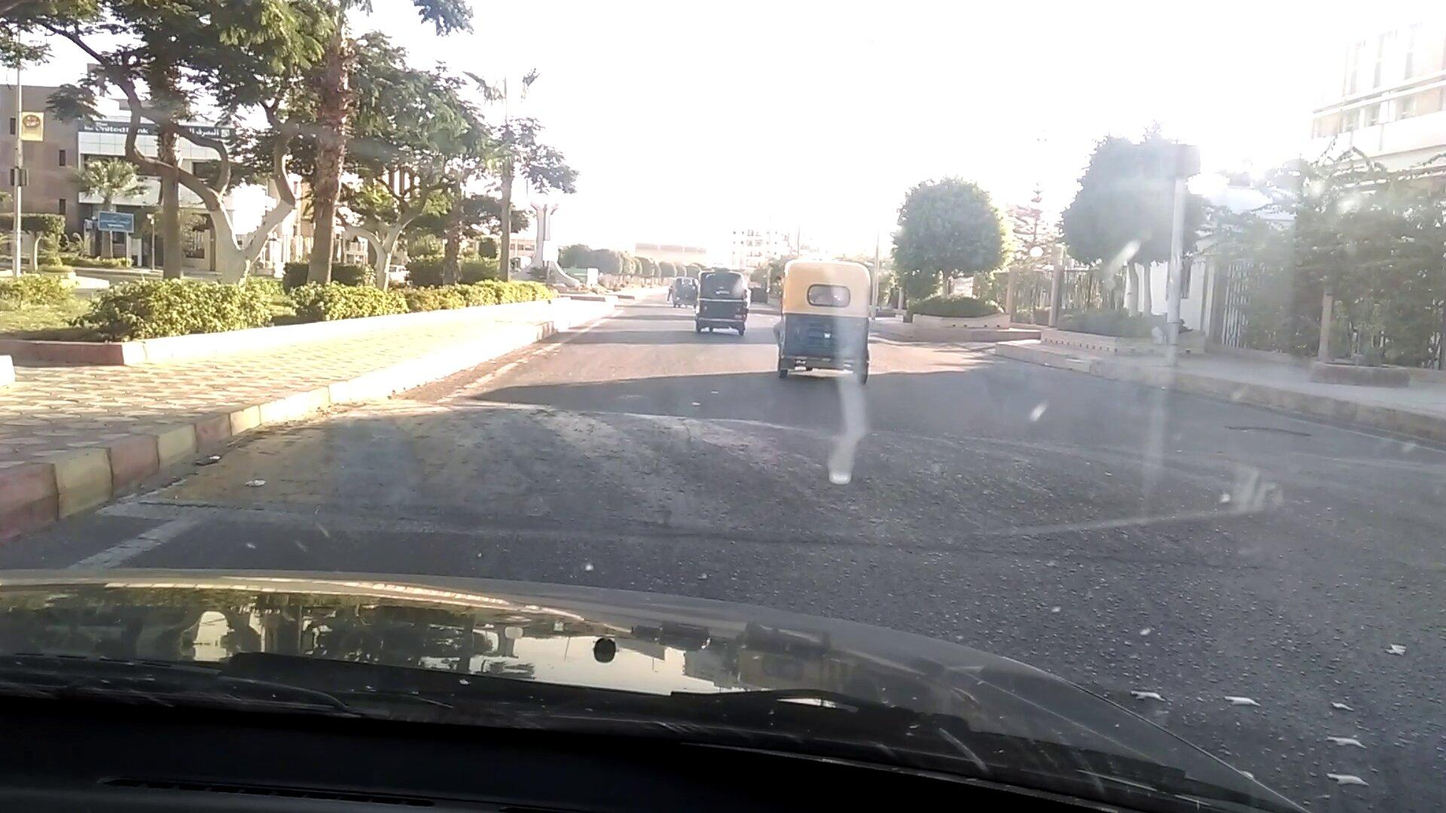Bump: (350, 376, 1429, 587)
